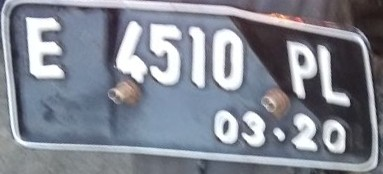plate: (1, 1, 377, 174)
